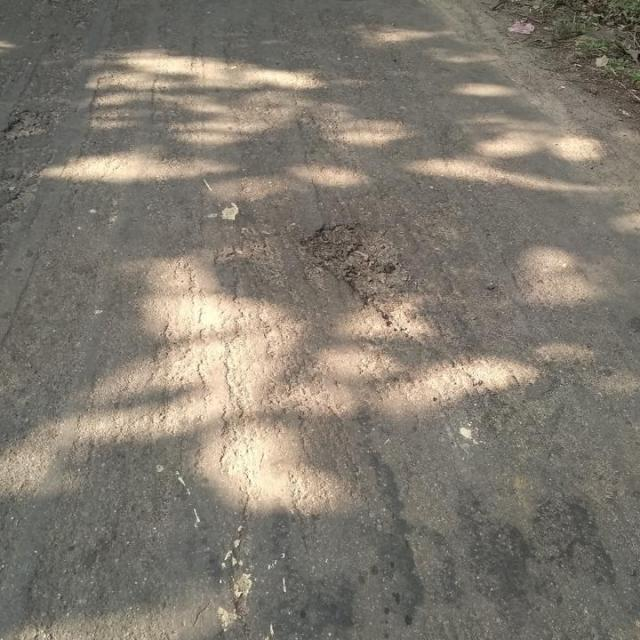Pothole: (300, 219, 417, 341), (2, 108, 53, 144)
